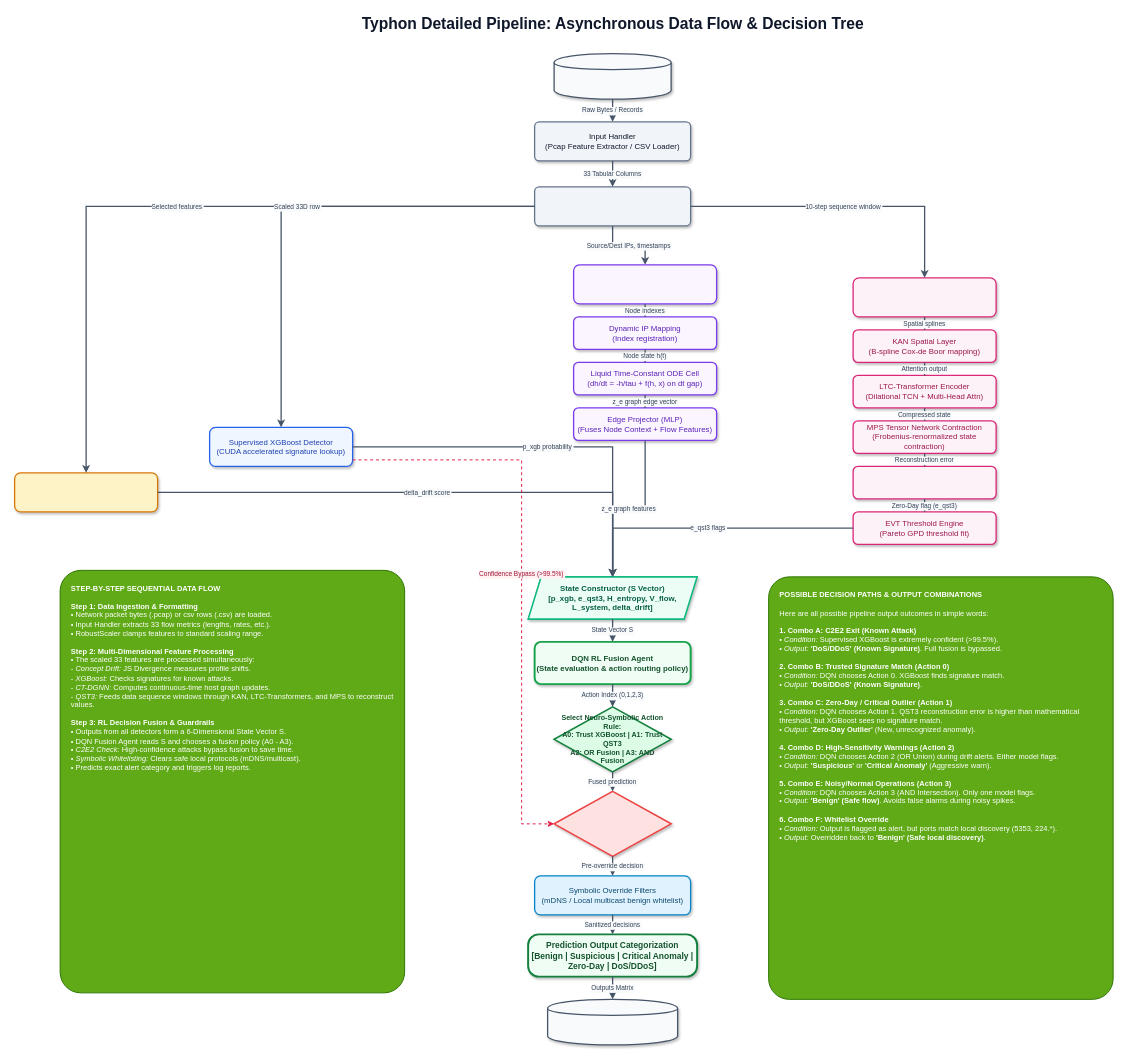
Some shapes in this 1125 by 1061 pixel diagram are drawn without their labels. Each missing label, with the centre of its shape:
"C2E2 Optimization Check (Is XGBoost confidence > 99.5% ?)" goes at (x=613, y=824).
"Concept Drift Detector (Jensen-Shannon Divergence over PMF)" goes at (x=86, y=493).
"Continuous-Time Dynamic Graph NN (Asynchronous topological tracking)" goes at (x=645, y=285).
"Decoder Reconstruction (Target Flow Output -> Anomaly Score)" goes at (x=925, y=483).
"Input Data File (Raw PCAP / CSV Network Flows)" goes at (x=613, y=77).
"Quantum-Inspired Spatio-Temporal Tensor-Transformer (QST3)" goes at (x=925, y=298).
"Report Generator (Generates HTML / Markdown / JSON logs)" goes at (x=613, y=1023).
"RobustScaler (Feature Scaling & Outlier Clamping)" goes at (x=613, y=207).
